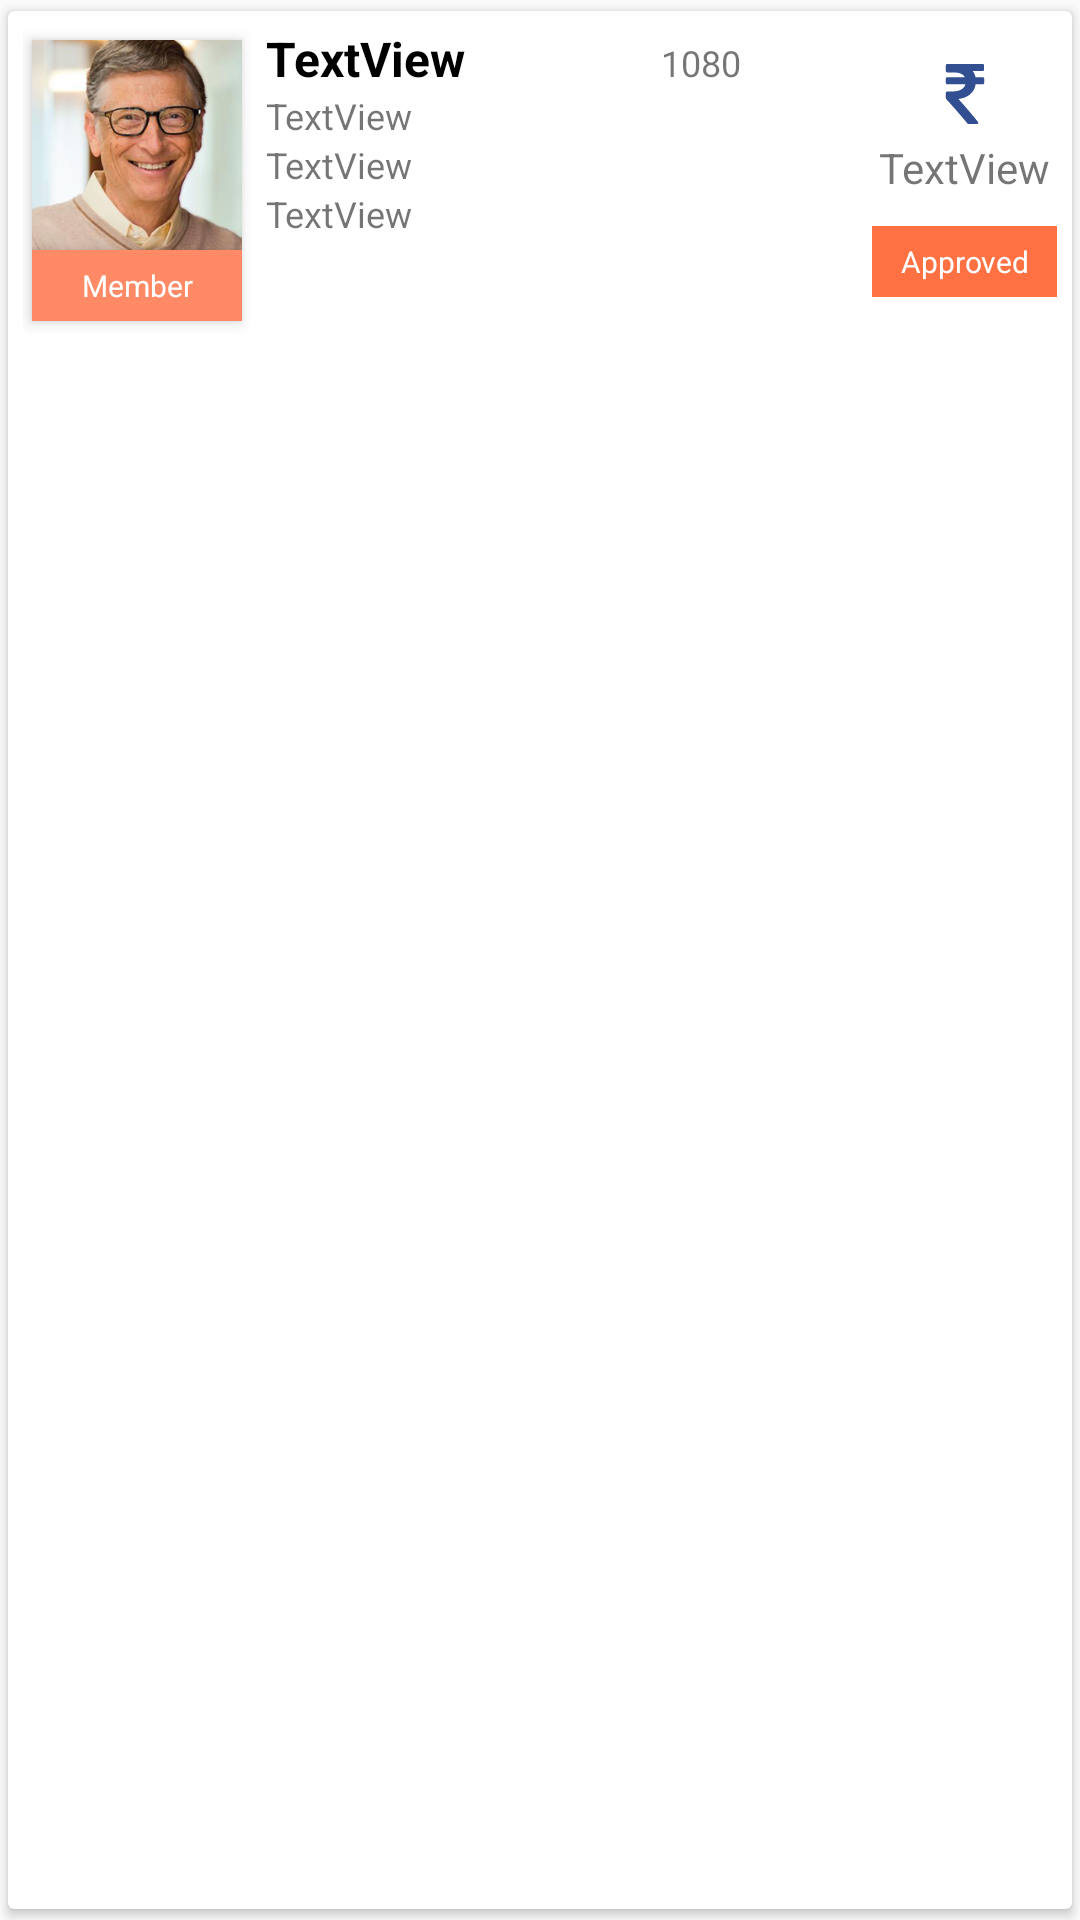

Icons on this 1080w x 1920h Android screen, each with its box as (x1, y1, x2, y2):
donations: (945, 64, 985, 124)
